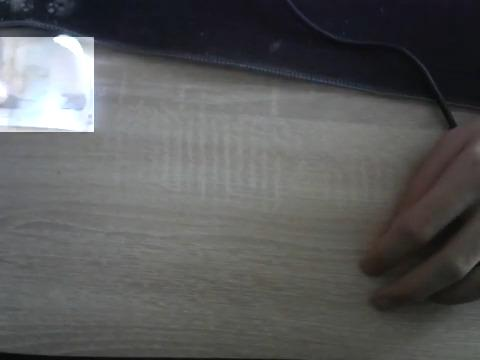20leva: (0, 37, 94, 132)
